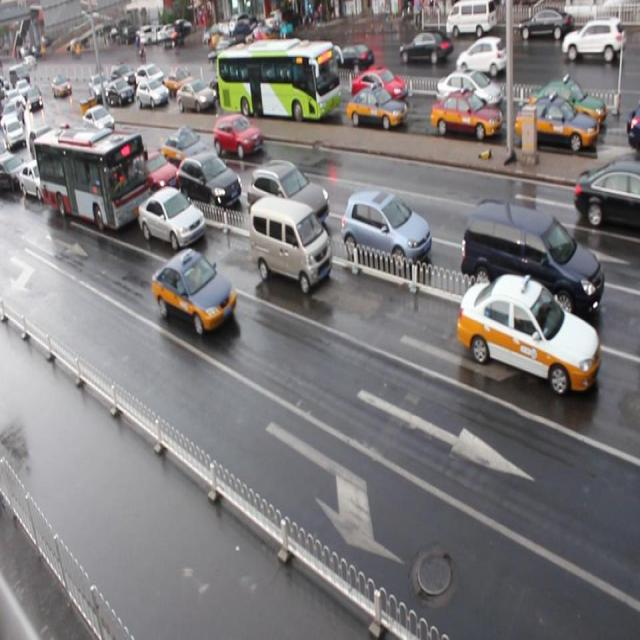car: (456, 271, 599, 396), (151, 248, 237, 338), (340, 189, 430, 273), (248, 160, 329, 233), (573, 159, 640, 233), (139, 184, 206, 251), (515, 96, 595, 152), (534, 79, 612, 131), (177, 151, 242, 209), (430, 92, 500, 141), (435, 66, 504, 112), (346, 86, 405, 132), (134, 146, 180, 194), (214, 114, 262, 160), (351, 66, 402, 109), (163, 130, 212, 174), (20, 157, 57, 201), (86, 134, 124, 173), (177, 80, 216, 114), (36, 130, 67, 170), (83, 104, 116, 139), (1, 152, 28, 194), (222, 71, 255, 102), (137, 80, 168, 110), (28, 128, 55, 162), (105, 76, 134, 105), (166, 66, 196, 94), (136, 60, 163, 89)
truck: (462, 196, 604, 327), (248, 195, 333, 294)
van: (34, 125, 154, 234), (217, 40, 340, 118)
